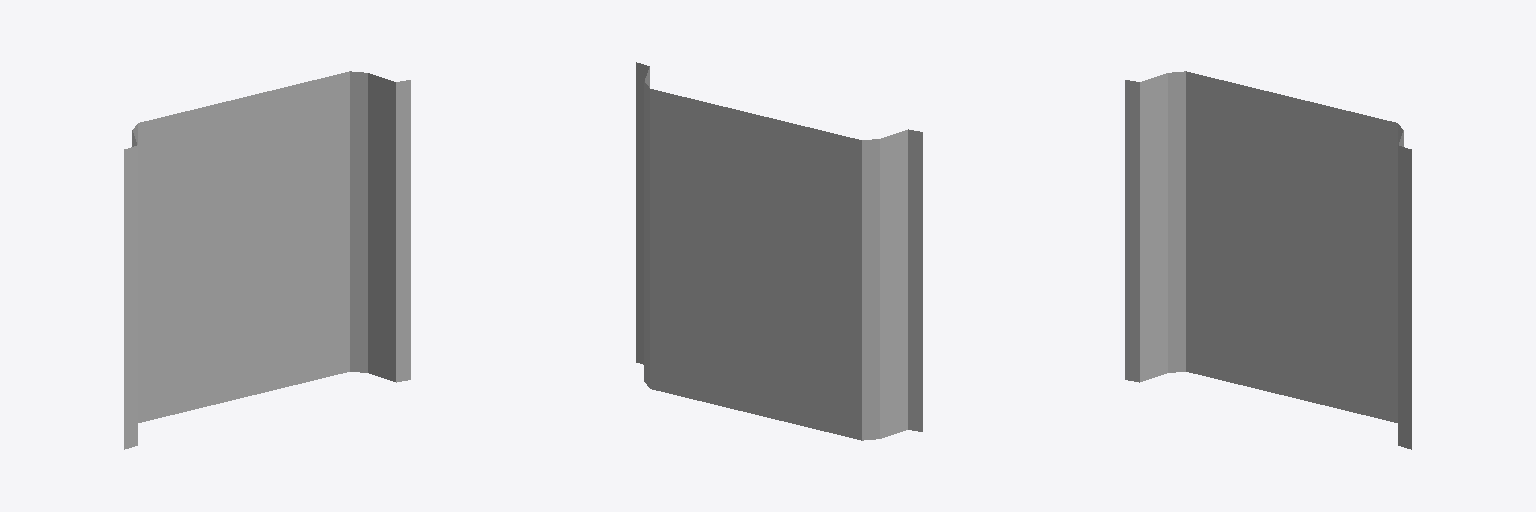
Rendered from low_central3.obj.
The picture shows the model from 3 angles: view 1: azimuth 30°, elevation 25°; view 2: azimuth 150°, elevation 25°; view 3: azimuth 330°, elevation 25°; orthographic projection.
Parts seen in each view (by area): view 1: street, ditch; view 2: street, ditch; view 3: street, ditch.
Part boxes in pixels (x1,y1,x2,y2): street: (138, 71, 349, 422); ditch: (124, 71, 410, 449); street: (650, 89, 861, 440); ditch: (636, 62, 922, 440); street: (1186, 71, 1397, 422); ditch: (1125, 71, 1411, 449).
Bounding box in the file's own units: 2 × 2 × 0.2855.